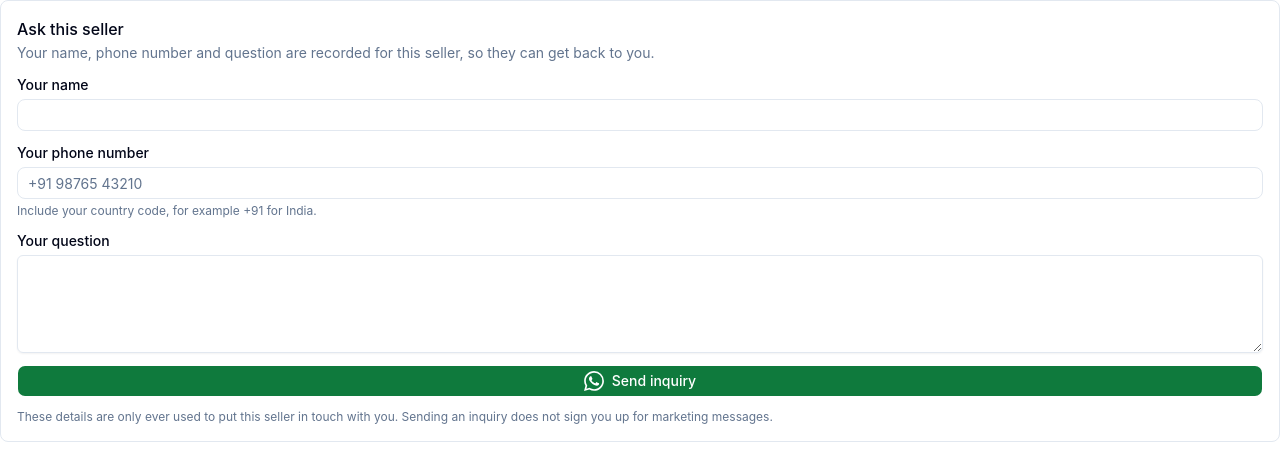
InquiryForm › disables the button while sending, so one click is one inquiry
In the field labelled "Your name": (640, 115) [17,99,1263,131], type "Asha Rao"
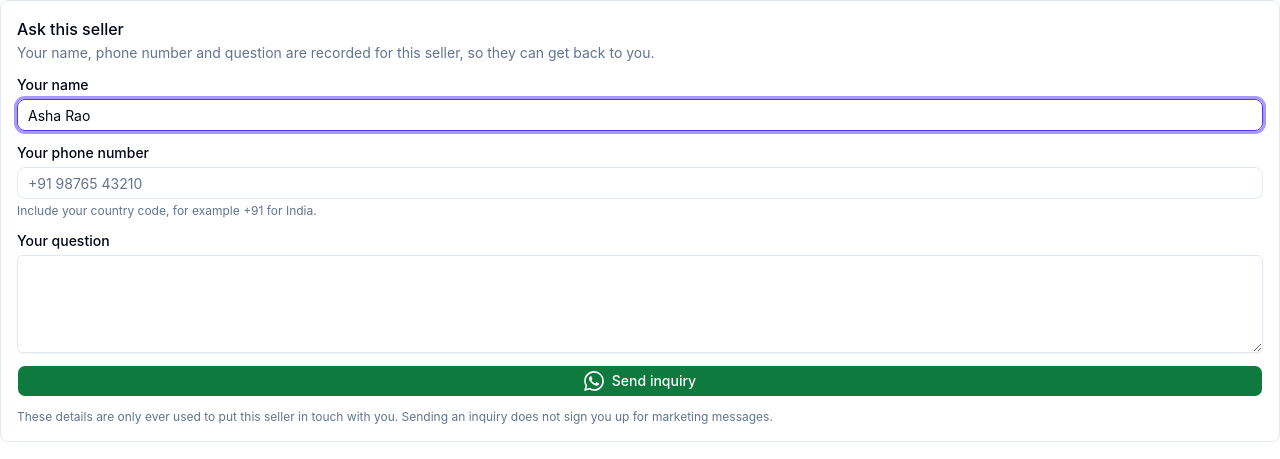
In the field labelled "Your phone number": (640, 183) [17,167,1263,199], type "+919000000001"
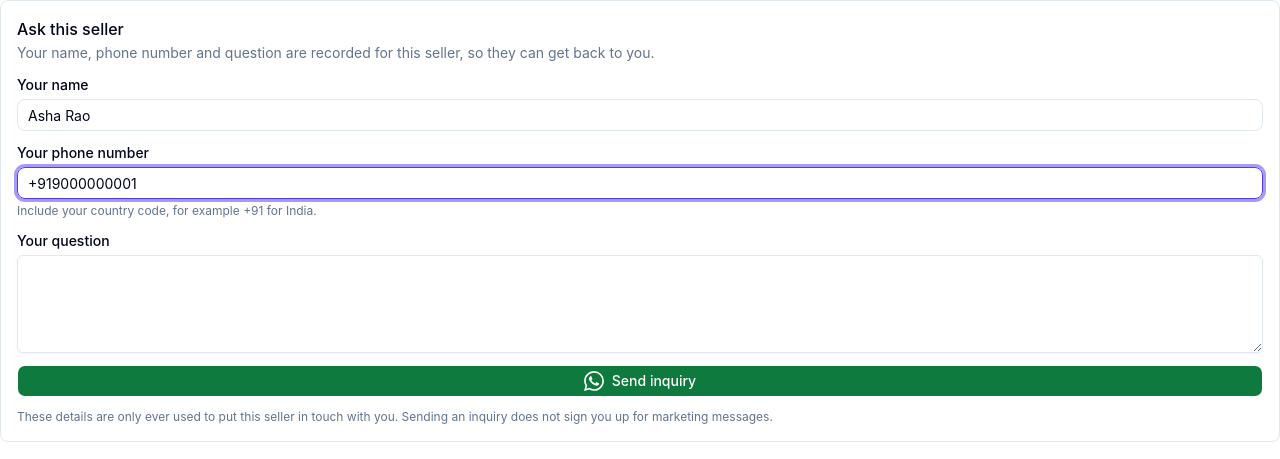
In the text box labelled "Your question": (640, 304) [17,255,1263,353], type "Available in Chennai?"
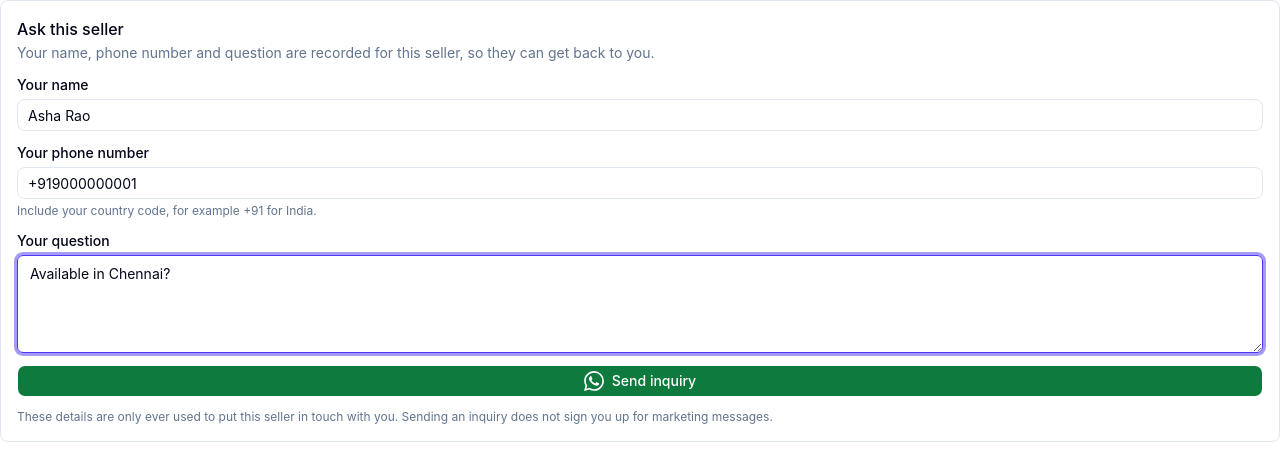
Click the button "Send inquiry": (640, 381) [17,365,1263,397]
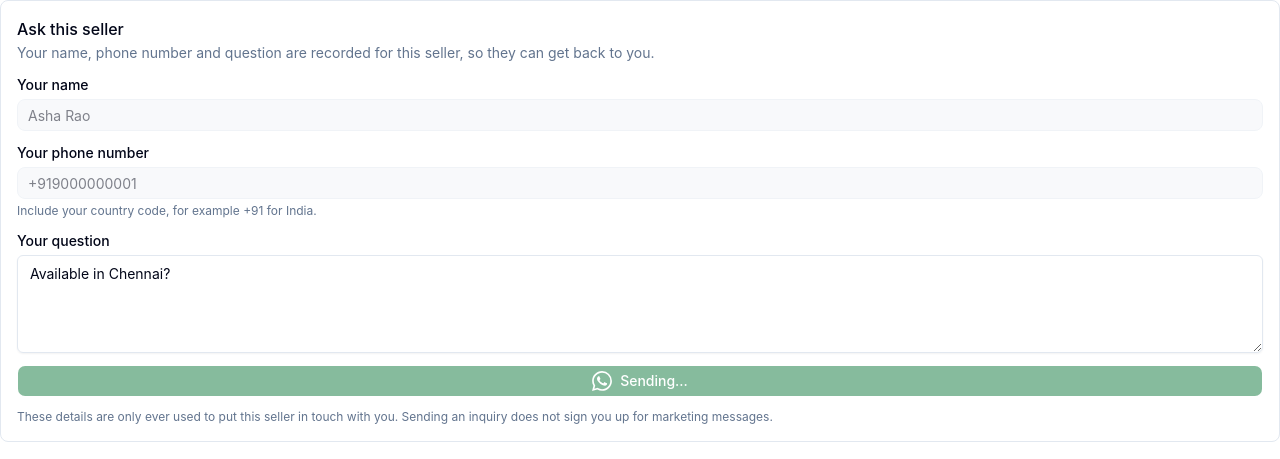
Result: the button "Sending…" is disabled at [17,365,1263,397]
